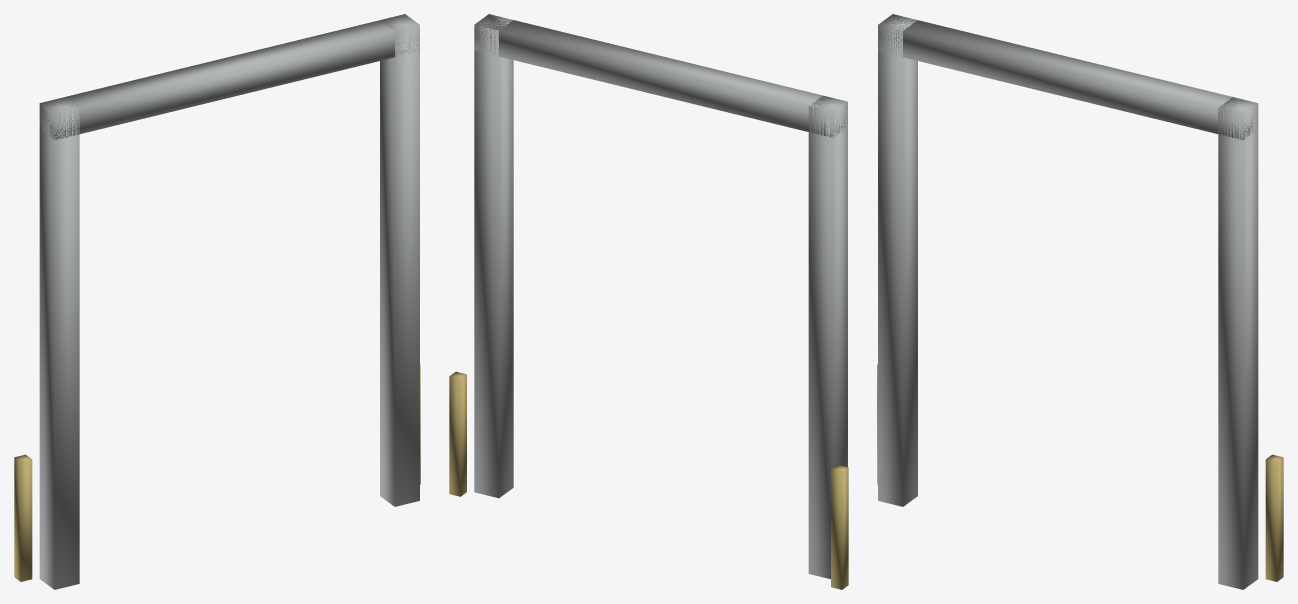
The model's file is stair_shaft_industrial_w220_h300_d18.glb.
3 renders of one model, left to right at view 1: azimuth 30°, elevation 25°; view 2: azimuth 150°, elevation 25°; view 3: azimuth 330°, elevation 25°, orthographic.
Visible parts, largest first — view 1: world; view 2: world; view 3: world.
Boxes of the visible parts, bbox=[...] form: world: bbox=[14, 14, 420, 589]; world: bbox=[449, 14, 848, 589]; world: bbox=[877, 14, 1283, 589].
Bounding box in the file's own units: 2.79 × 3.18 × 0.28.
